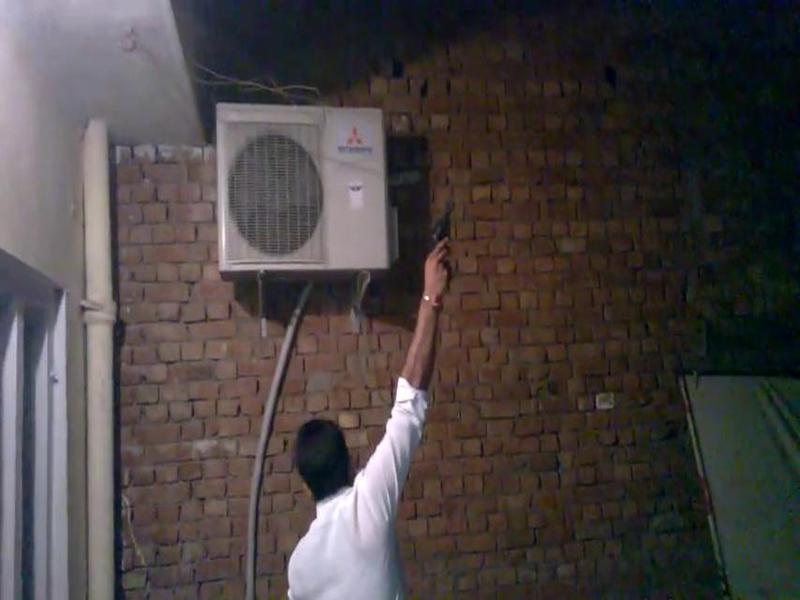Revolver: (400, 196, 485, 307)
